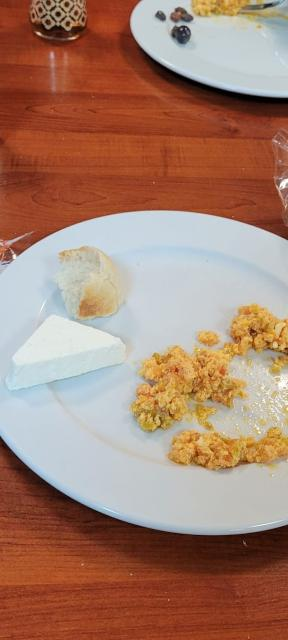Organik: (128, 303, 288, 507), (2, 314, 129, 402), (60, 241, 128, 324), (147, 4, 203, 51)
